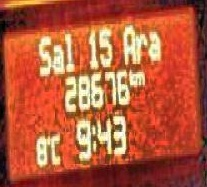1: (86, 23, 97, 69)
2: (62, 74, 76, 112)
3: (111, 111, 126, 156)
4: (96, 116, 110, 154)
5: (97, 23, 112, 65)
6: (89, 71, 102, 107), (116, 67, 127, 102)
7: (104, 67, 115, 102)
8: (76, 71, 90, 107), (35, 134, 46, 165)
9: (75, 116, 90, 160)
X: (37, 31, 50, 76), (122, 21, 135, 63), (64, 30, 75, 72), (147, 27, 160, 58), (51, 38, 62, 71), (50, 132, 61, 163), (136, 29, 146, 63), (135, 69, 145, 85), (91, 123, 95, 152), (129, 67, 135, 85)
